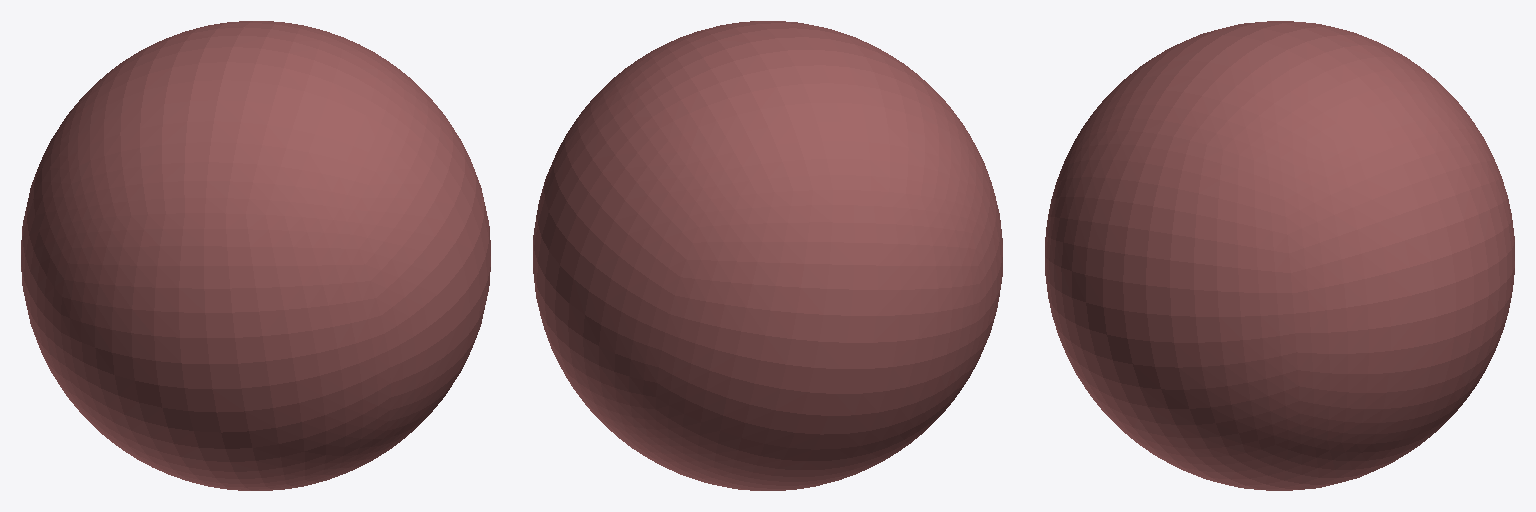
File: Bola.obj
3 renders of one model, left to right at view 1: azimuth 30°, elevation 25°; view 2: azimuth 150°, elevation 25°; view 3: azimuth 270°, elevation 25°, orthographic.
Parts seen in each view (by area): view 1: Cube.001; view 2: Cube.001; view 3: Cube.001.
Boxes of the visible parts, box(x1,y1,x2,y2) form: Cube.001: box(21, 21, 490, 490); Cube.001: box(533, 21, 1002, 490); Cube.001: box(1045, 21, 1514, 490).
Bounding box in the file's own units: 1.46 × 1.46 × 1.46.